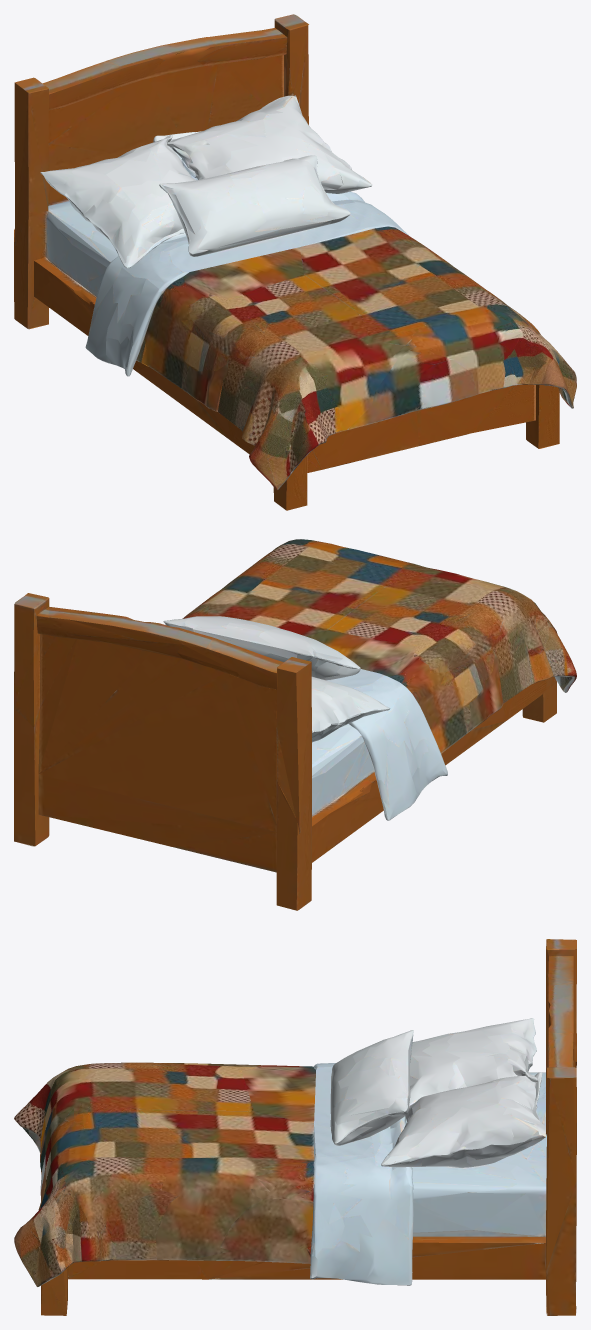
File: bed.glb
The picture shows the model from 3 angles, top to bottom: view 1: azimuth 30°, elevation 25°; view 2: azimuth 150°, elevation 25°; view 3: azimuth 270°, elevation 25°; orthographic projection.
Bounding box in the file's own units: 1.29 × 0.9 × 1.9.
1 material, 1 textured.
